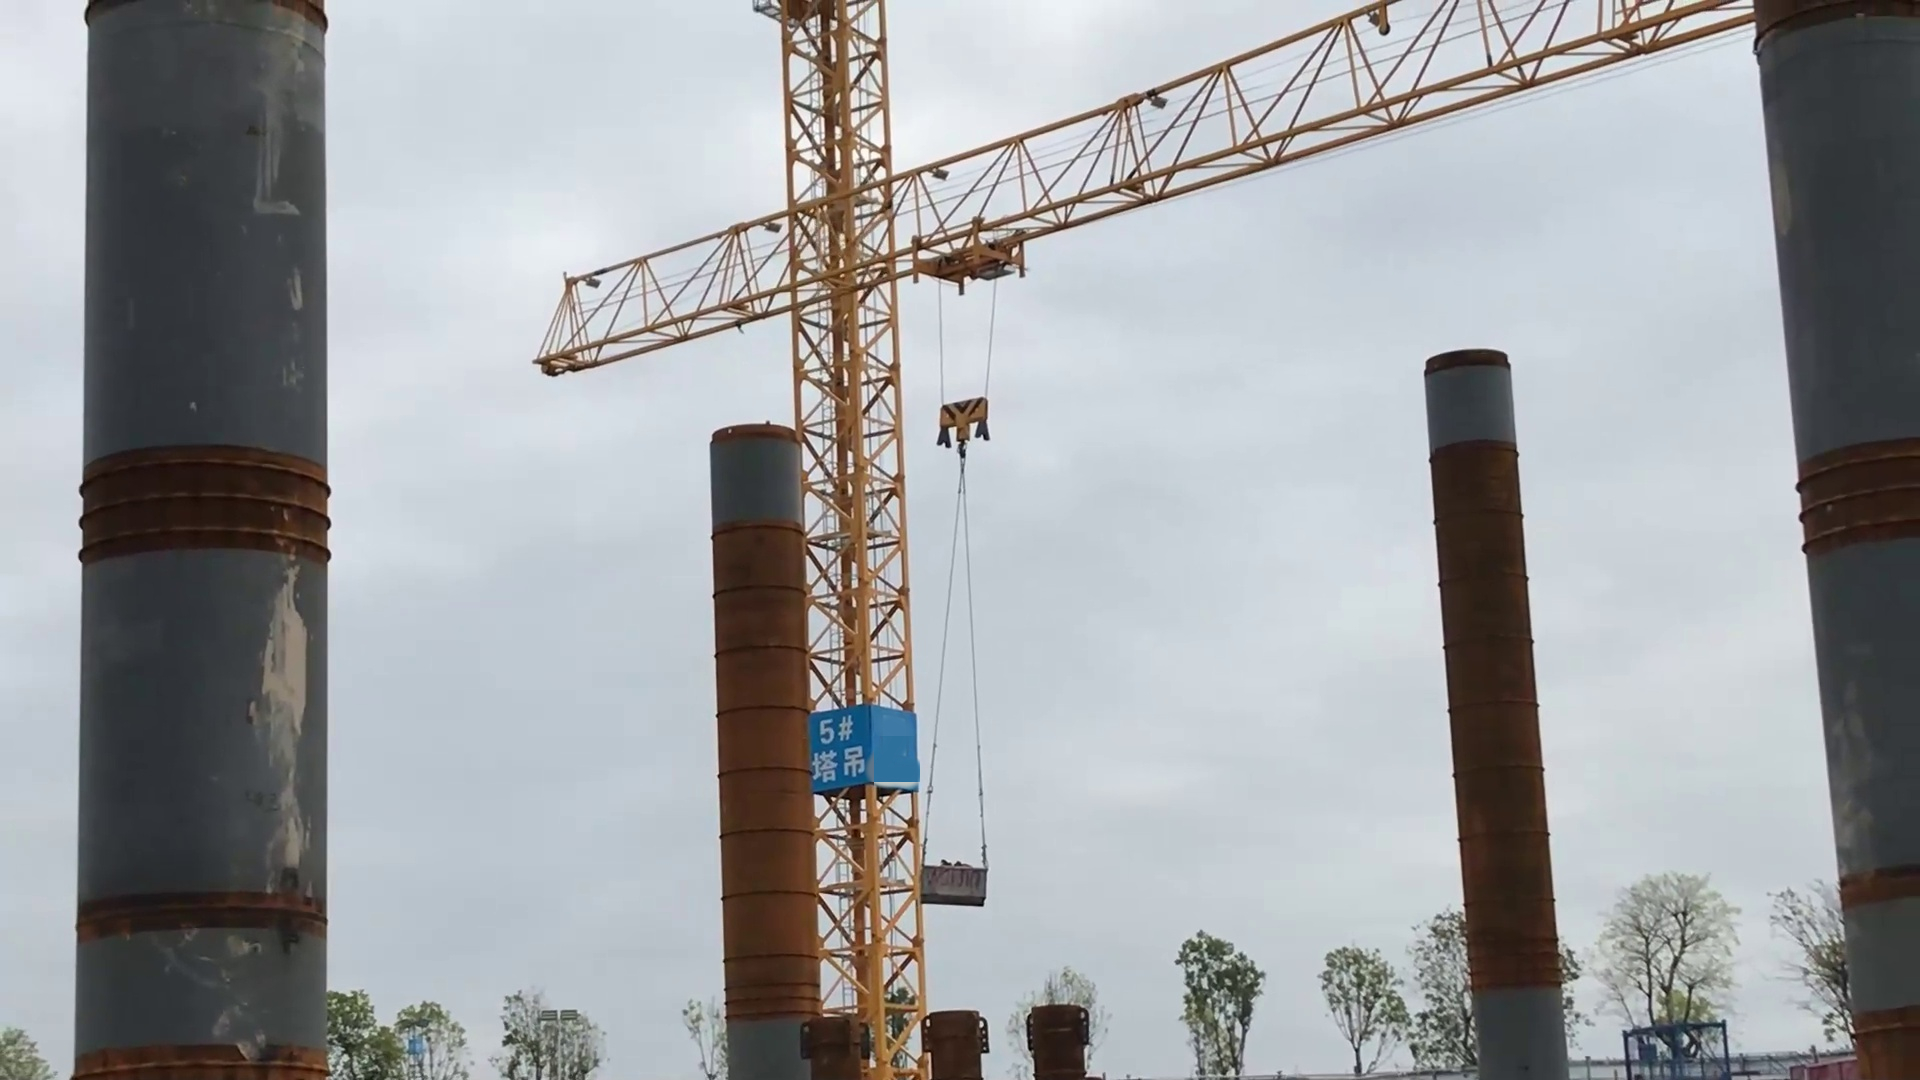hook: (936, 401, 994, 446)
